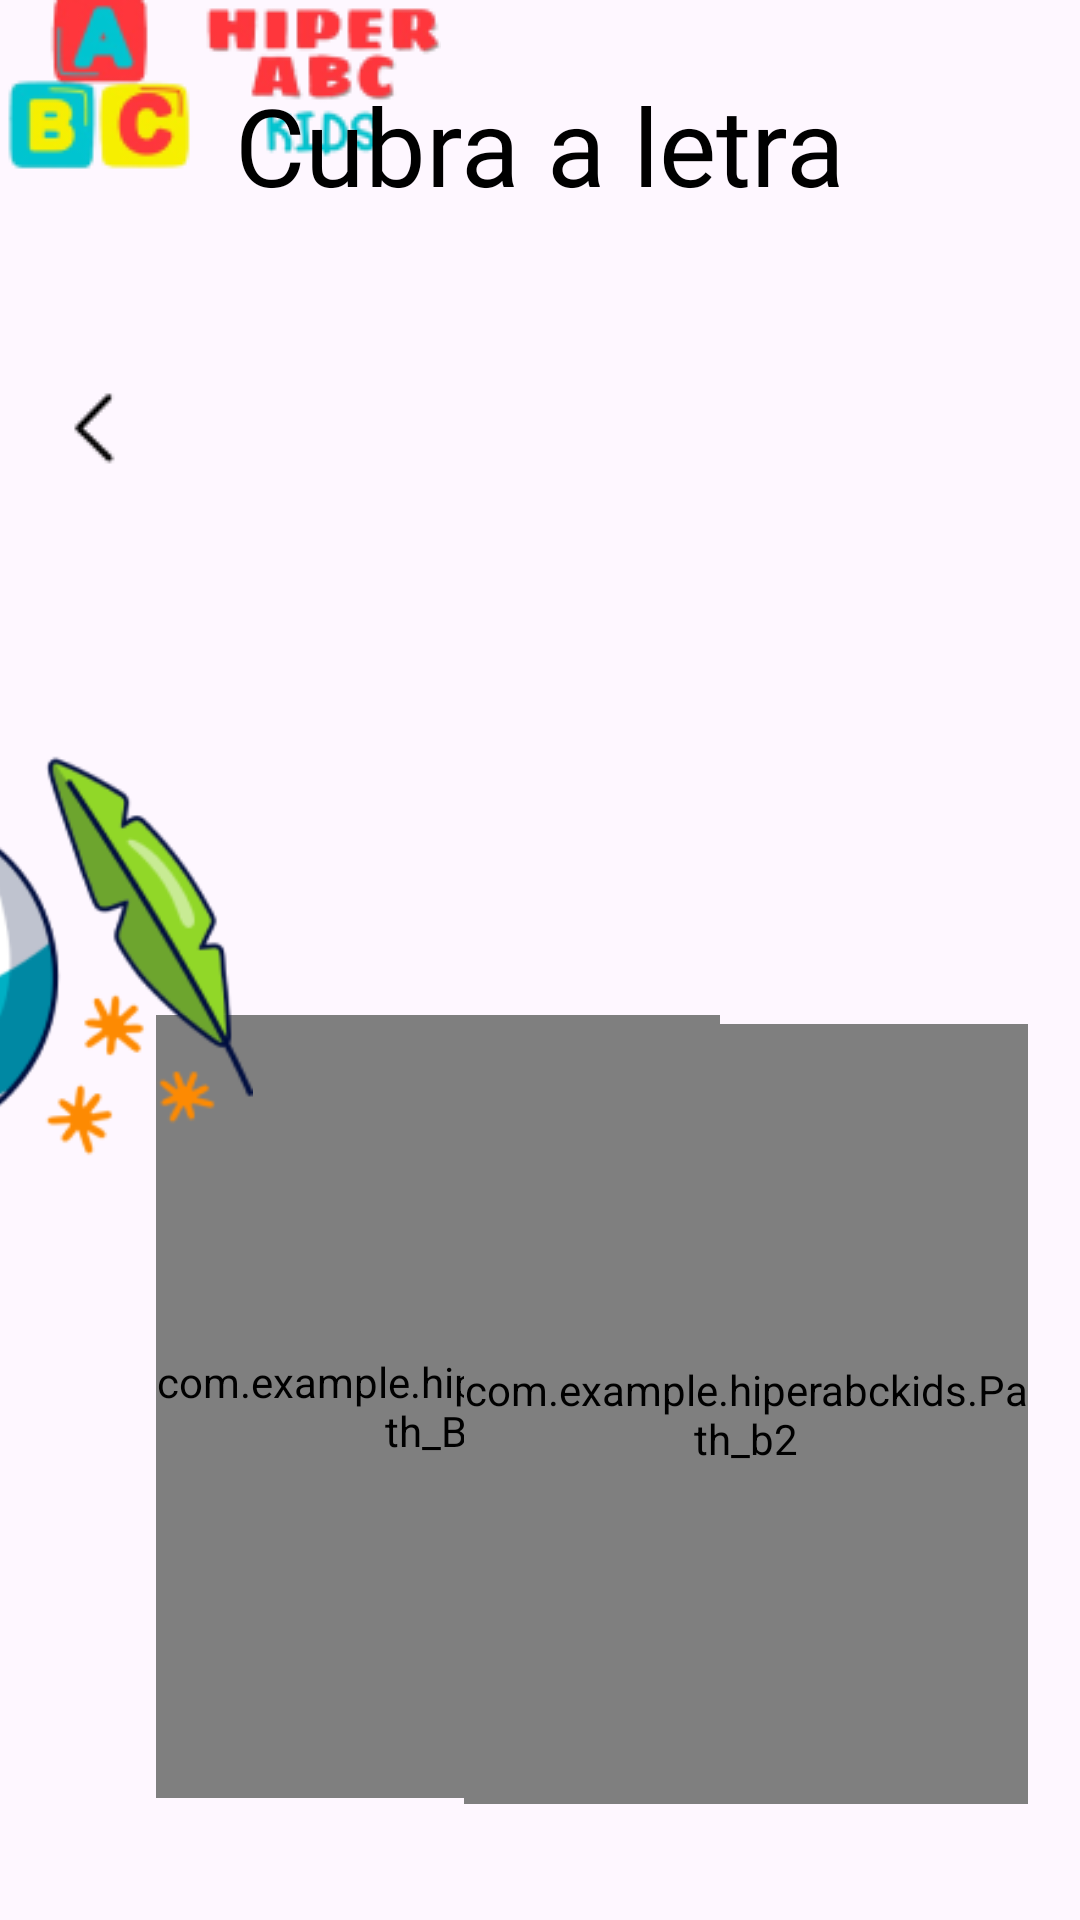

Icons on this 1080 × 1920 Android screen, each with its box as (x1, y1, x2, y2):
seta voltar: (74, 393, 115, 464)
